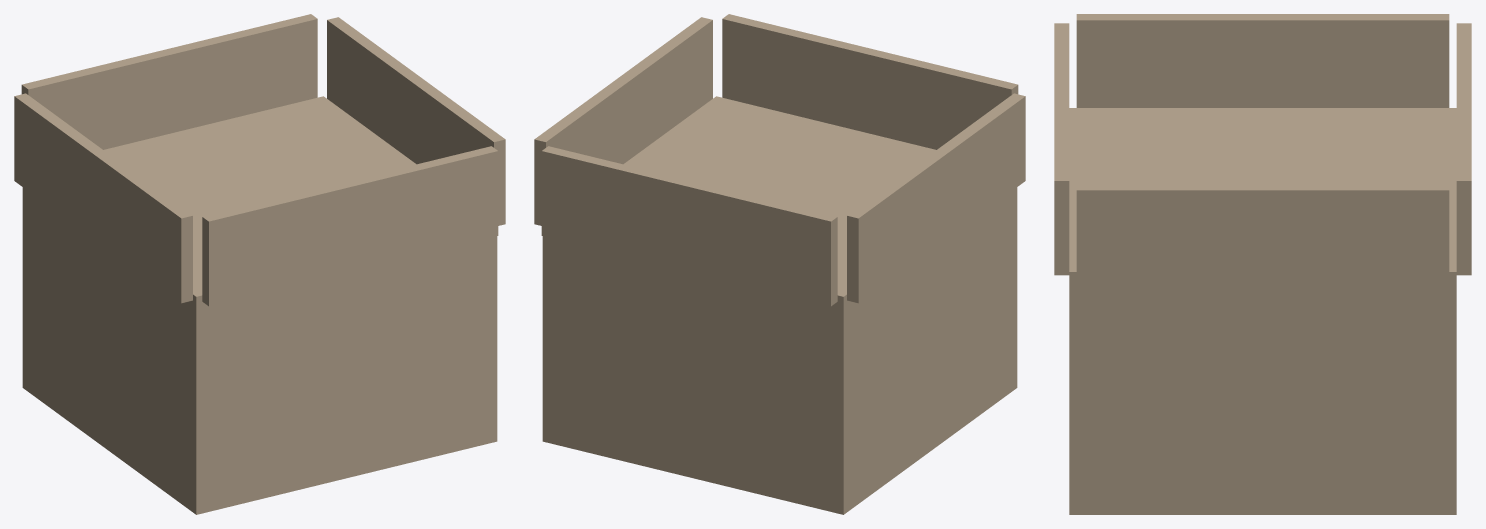
Rendered from cardboardBoxOpen.glb.
3 renders of one model, left to right at view 1: azimuth 30°, elevation 25°; view 2: azimuth 150°, elevation 25°; view 3: azimuth 270°, elevation 25°, orthographic. The views are drawn at different scales.
Size of the model in its own units: 0.56 by 0.49 by 0.56.
